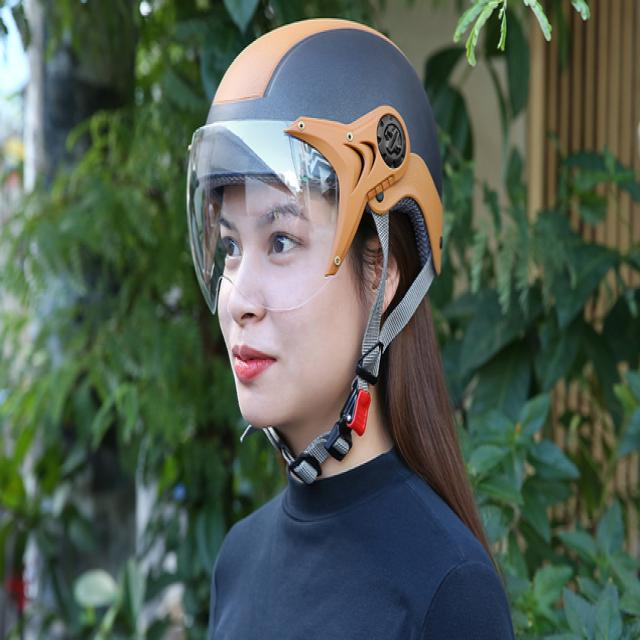helmet: (184, 8, 446, 318)
